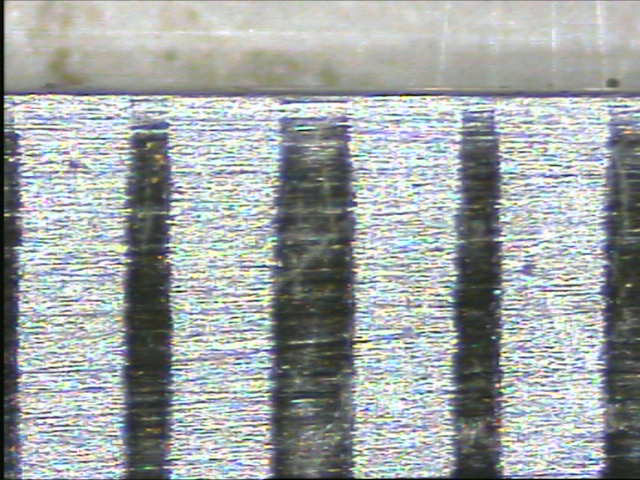line: (267, 95, 359, 477), (447, 98, 507, 477), (121, 97, 175, 477)
